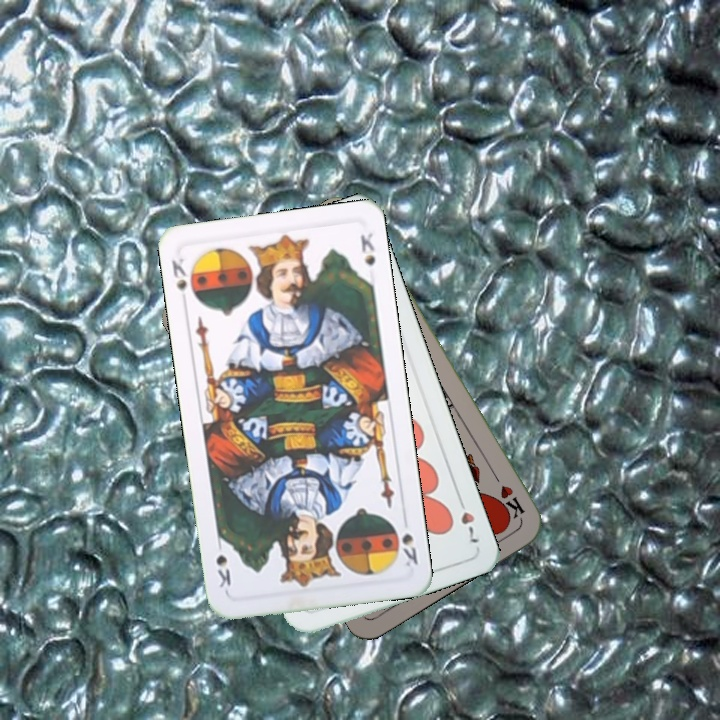H7: (453, 491, 482, 546)
HK: (487, 467, 528, 522)
SK: (167, 253, 190, 309), (398, 529, 420, 569)
